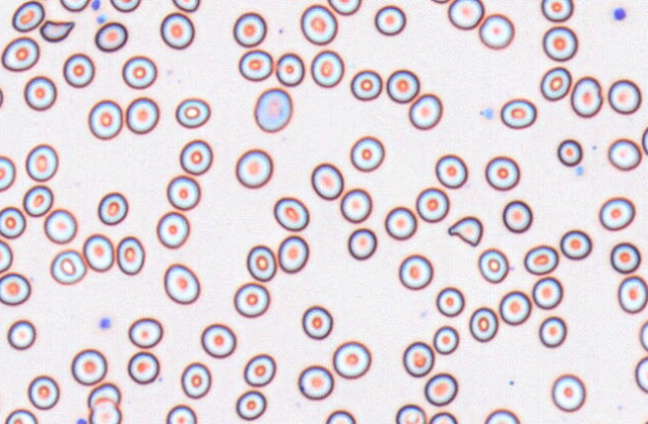PLT: (611, 7, 628, 21), (98, 316, 112, 331), (95, 12, 110, 24), (90, 0, 101, 12), (573, 165, 585, 176), (75, 417, 88, 424)
RBC: (253, 87, 292, 132), (332, 340, 371, 379), (235, 148, 273, 188), (300, 4, 337, 45), (163, 263, 200, 304), (87, 99, 122, 140), (570, 75, 603, 117), (70, 348, 107, 385), (551, 373, 586, 412), (233, 282, 270, 318), (1, 36, 39, 71), (478, 13, 514, 49), (297, 364, 333, 400), (484, 155, 520, 191), (159, 12, 194, 49), (49, 249, 86, 284), (398, 253, 433, 290), (598, 196, 635, 231), (349, 135, 384, 172), (408, 92, 442, 130), (310, 49, 344, 87), (125, 96, 159, 134), (156, 210, 189, 249), (200, 323, 236, 358), (273, 196, 309, 231), (542, 25, 577, 61), (310, 162, 343, 200), (25, 143, 58, 181), (82, 233, 114, 272), (166, 174, 200, 210), (43, 208, 77, 244), (232, 11, 266, 47), (607, 78, 641, 114), (277, 234, 308, 273), (607, 137, 642, 171), (415, 187, 449, 222), (121, 55, 156, 89), (23, 75, 56, 111), (179, 139, 212, 175), (180, 361, 211, 399), (617, 275, 648, 313), (116, 235, 145, 275), (384, 205, 417, 240), (498, 290, 531, 325), (339, 188, 372, 223), (386, 68, 419, 103), (62, 52, 94, 88), (27, 374, 59, 410), (477, 247, 509, 283), (127, 316, 163, 348), (402, 341, 434, 377), (424, 372, 457, 406), (243, 353, 276, 387), (539, 66, 571, 101), (238, 49, 273, 81), (301, 304, 333, 339), (435, 153, 467, 188), (500, 98, 536, 129), (246, 244, 276, 281), (127, 350, 159, 384), (175, 97, 210, 128), (523, 244, 558, 275), (468, 306, 498, 342), (447, 0, 484, 29), (11, 0, 44, 32), (531, 276, 563, 309), (0, 271, 31, 305), (97, 191, 128, 225), (609, 241, 641, 273), (94, 21, 127, 52), (22, 184, 53, 217), (559, 229, 592, 260), (502, 199, 532, 233), (350, 69, 382, 100), (374, 4, 406, 35), (347, 227, 377, 260), (275, 52, 304, 86), (235, 389, 266, 420), (538, 315, 567, 348), (6, 319, 36, 350), (87, 382, 120, 410), (435, 286, 464, 317), (88, 398, 121, 424), (0, 206, 25, 238), (432, 325, 459, 354), (556, 138, 582, 167), (540, 0, 573, 22), (395, 403, 426, 423), (165, 404, 197, 423), (483, 408, 520, 424), (0, 154, 15, 191), (4, 408, 38, 424), (634, 355, 648, 393), (327, 0, 361, 15), (324, 409, 356, 424), (0, 239, 12, 273), (428, 411, 458, 424), (109, 0, 141, 12), (59, 0, 90, 12), (171, 0, 200, 12), (639, 318, 648, 352), (641, 123, 648, 156), (0, 81, 4, 110), (427, 0, 451, 4), (0, 383, 2, 411), (639, 418, 648, 424)
Schistocyte: (447, 216, 484, 248), (39, 21, 75, 43)
